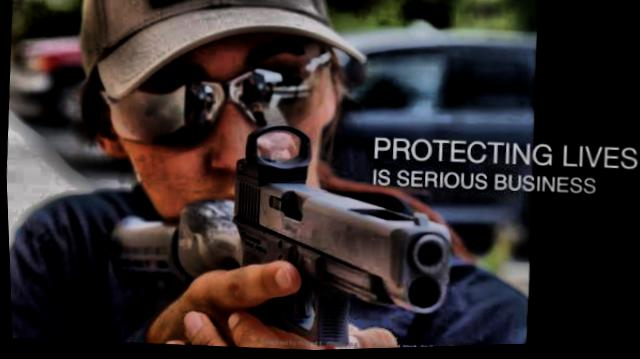pistol: (223, 114, 460, 354)
